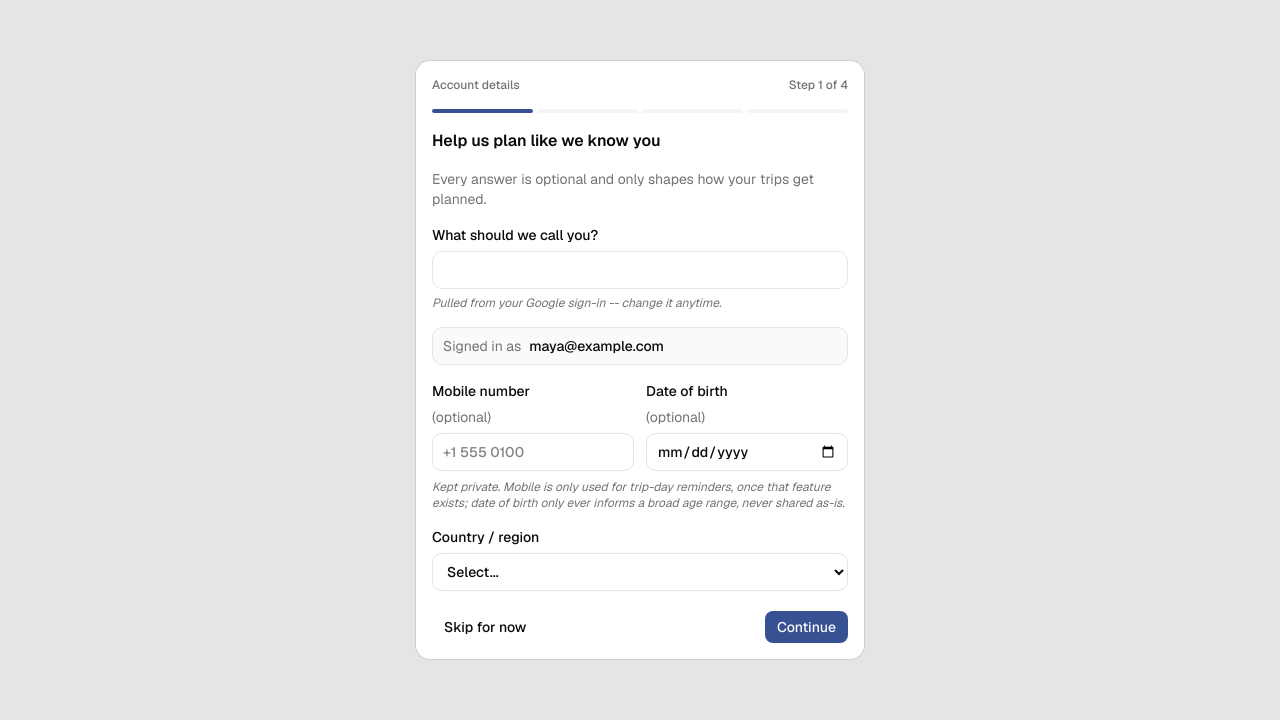
OnboardingFlow › blocks Continue on an invalid mobile number
Type "not a phone" into the field with placeholder "+1 555 0100" at (533, 452), box [432,433,634,471]
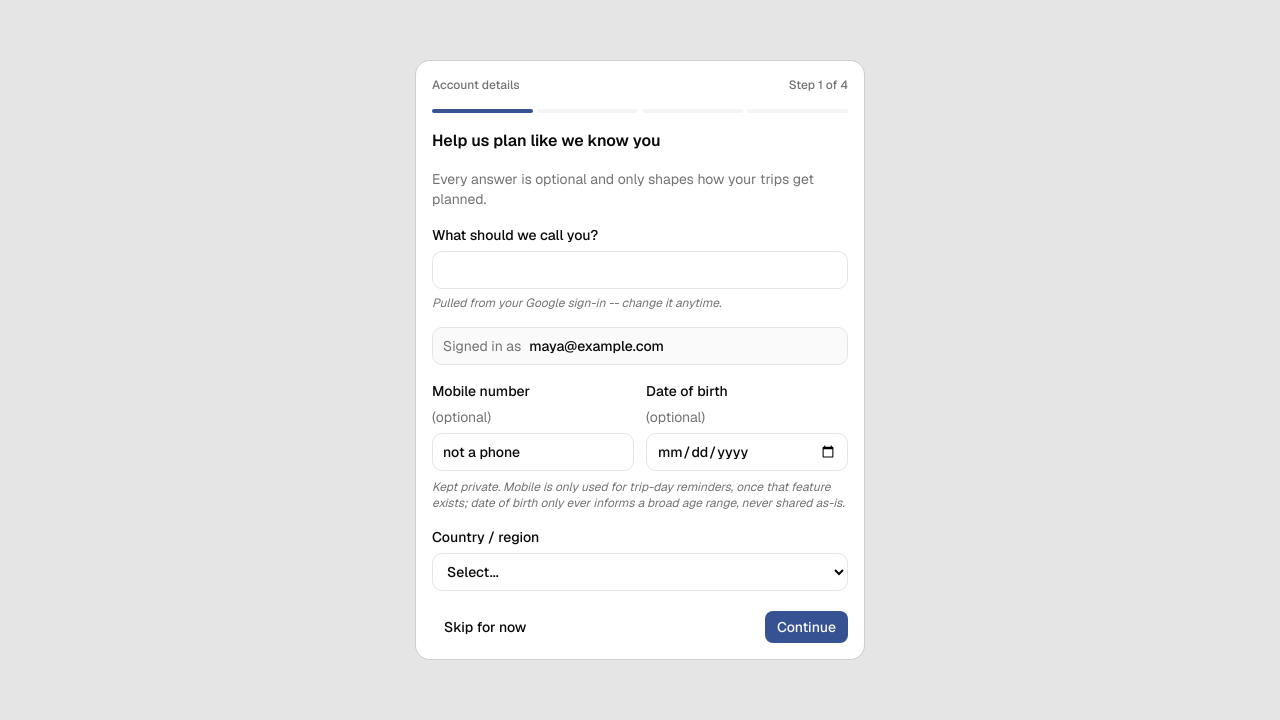
Click the button "Continue" at (806, 627), box [765,611,848,643]
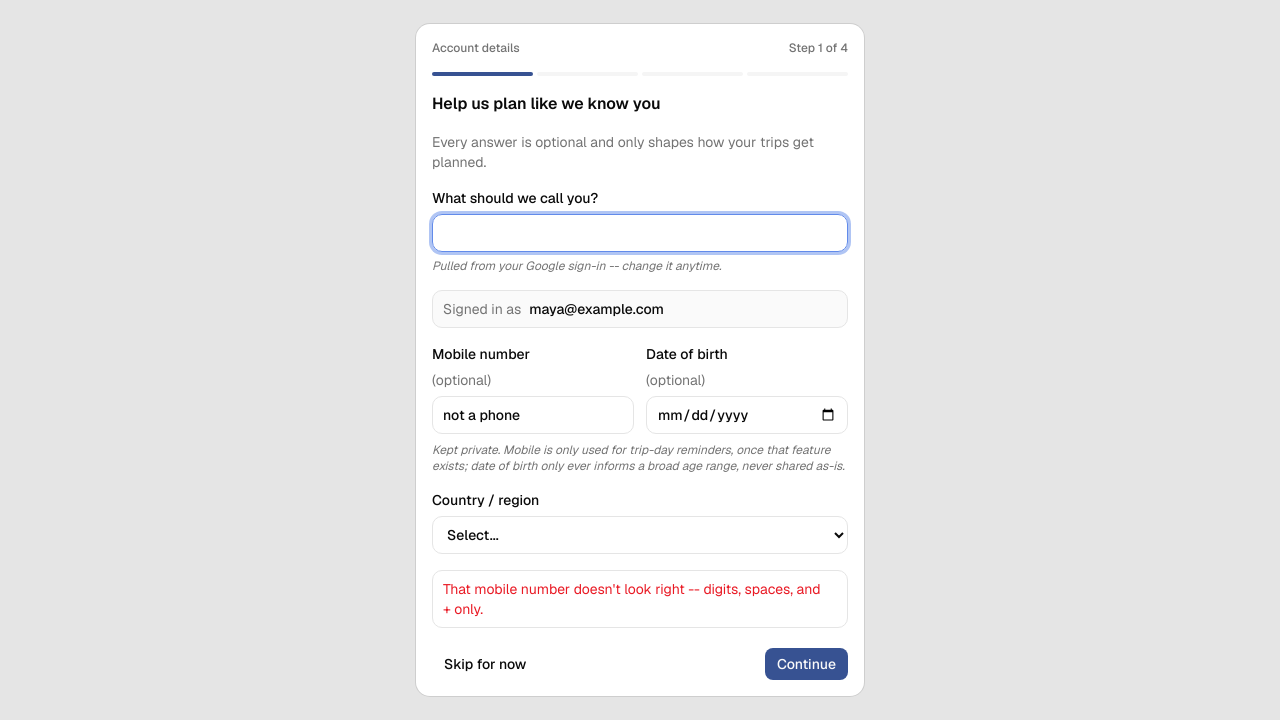
Check: the text "Step 1 of 4" is shown, box [789,40,848,56]
Check: the text "doesn't look right" is shown, box [443,580,820,618]
